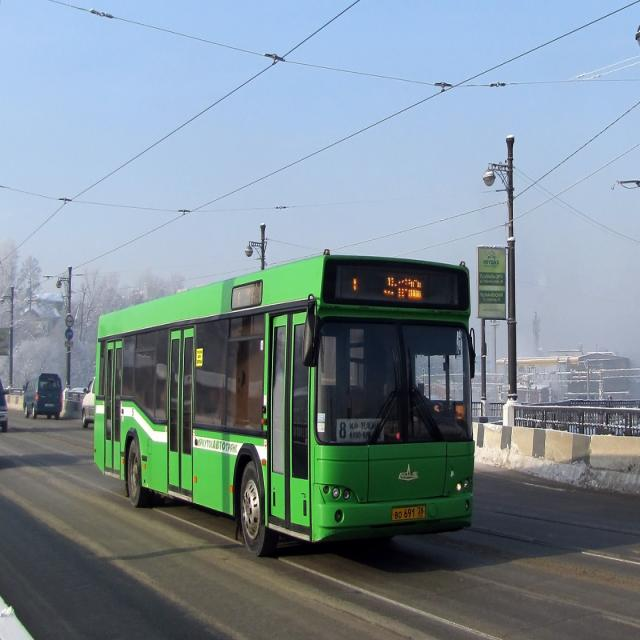number-of-bus: (339, 422, 349, 442)
